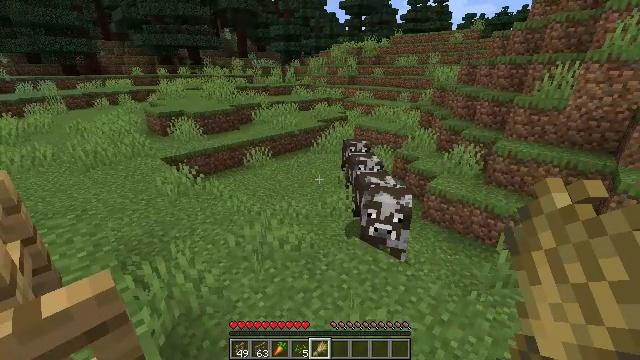cow: (356, 173, 412, 261), (346, 154, 384, 187), (343, 140, 371, 168)
